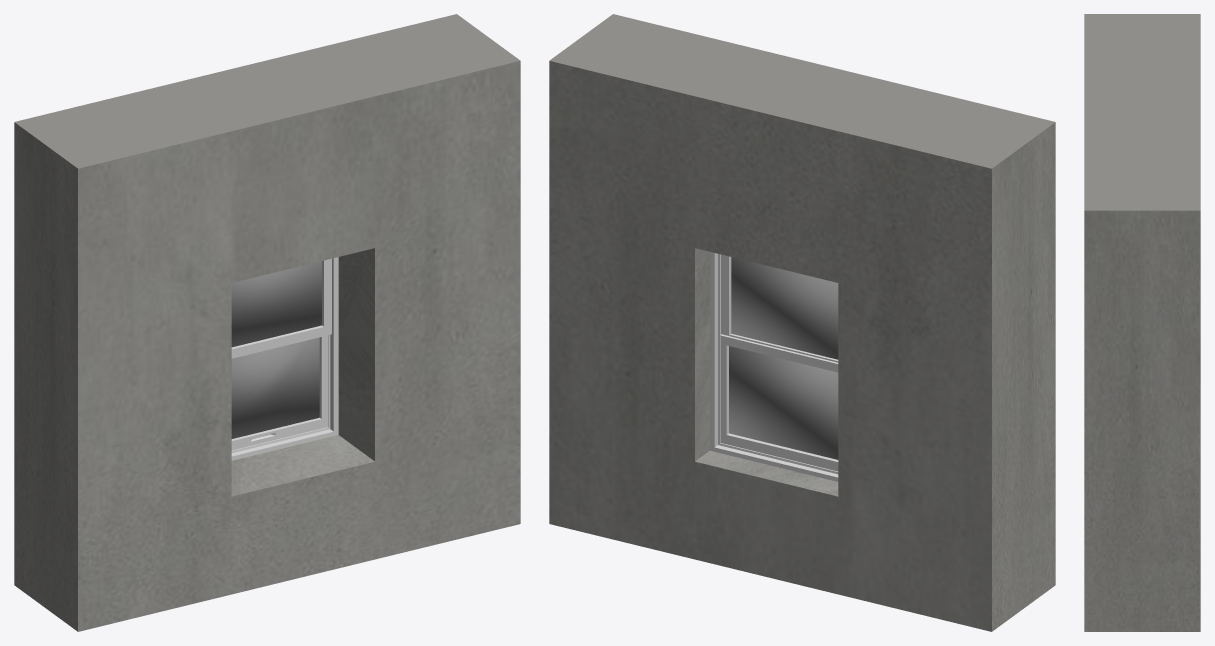
The model's file is WRSPWallWindow.fbx.
3 renders of one model, left to right at view 1: azimuth 30°, elevation 25°; view 2: azimuth 150°, elevation 25°; view 3: azimuth 270°, elevation 25°, orthographic. The views are drawn at different scales.
Visible parts, largest first — view 1: dow; view 2: dow; view 3: dow.
Part boxes in pixels (<box>): dow: <box>14,14,520,631</box>; dow: <box>549,14,1055,631</box>; dow: <box>1084,14,1200,631</box>.
Bounding box in the file's own units: 400 × 400 × 100.
